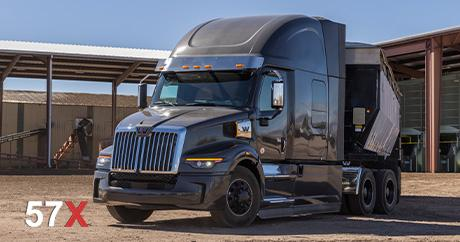truck: (93, 14, 402, 227)
